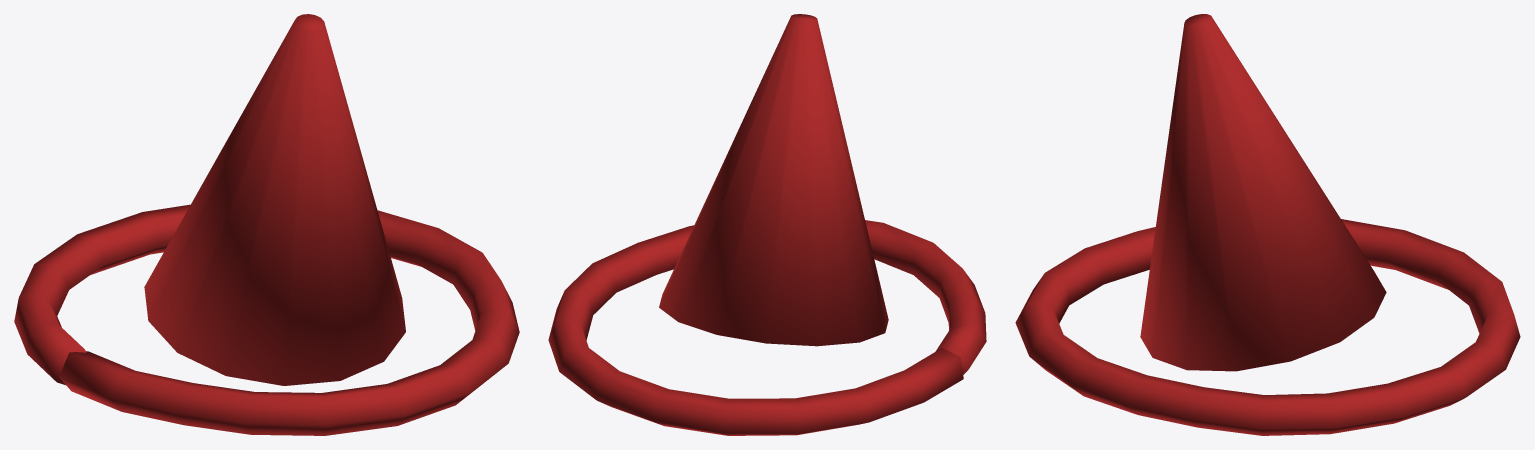
The model's file is red_hat.glb.
3 views of the same model, side by side, from view 1: azimuth 30°, elevation 25°; view 2: azimuth 150°, elevation 25°; view 3: azimuth 270°, elevation 25° (orthographic). The views are drawn at different scales.
Parts seen in each view (by area): view 1: red_hat_head; view 2: red_hat_head; view 3: red_hat_head.
Part boxes in pixels (x1,y1,x2,y2): red_hat_head: (14, 14, 519, 435); red_hat_head: (548, 14, 986, 435); red_hat_head: (1015, 14, 1520, 435).
Size of the model in its own units: 0.3962 by 0.3055 by 0.4223.
